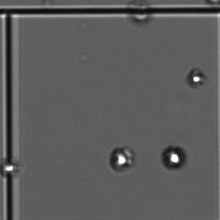Living Cell: (161, 142, 187, 172), (112, 144, 132, 174), (185, 64, 206, 92), (1, 159, 19, 176)
